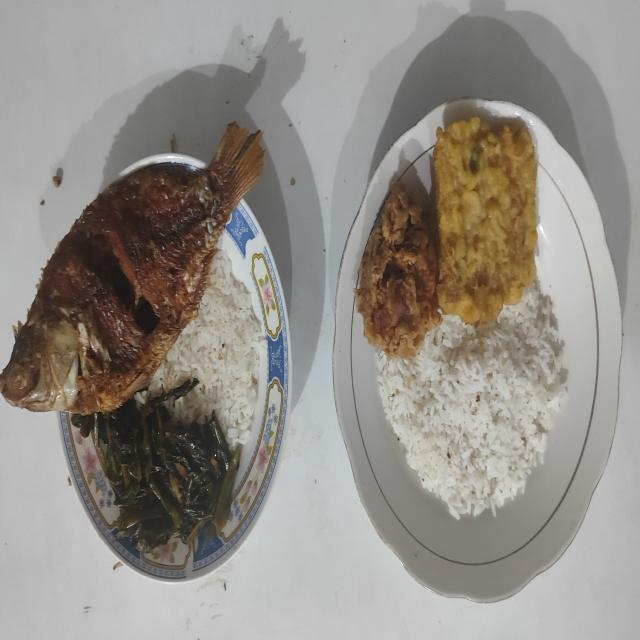ikan_mujair: (0, 122, 264, 415)
nasi_putih: (375, 280, 567, 519), (141, 250, 264, 450)
tumis_kangkung: (68, 399, 242, 549)
